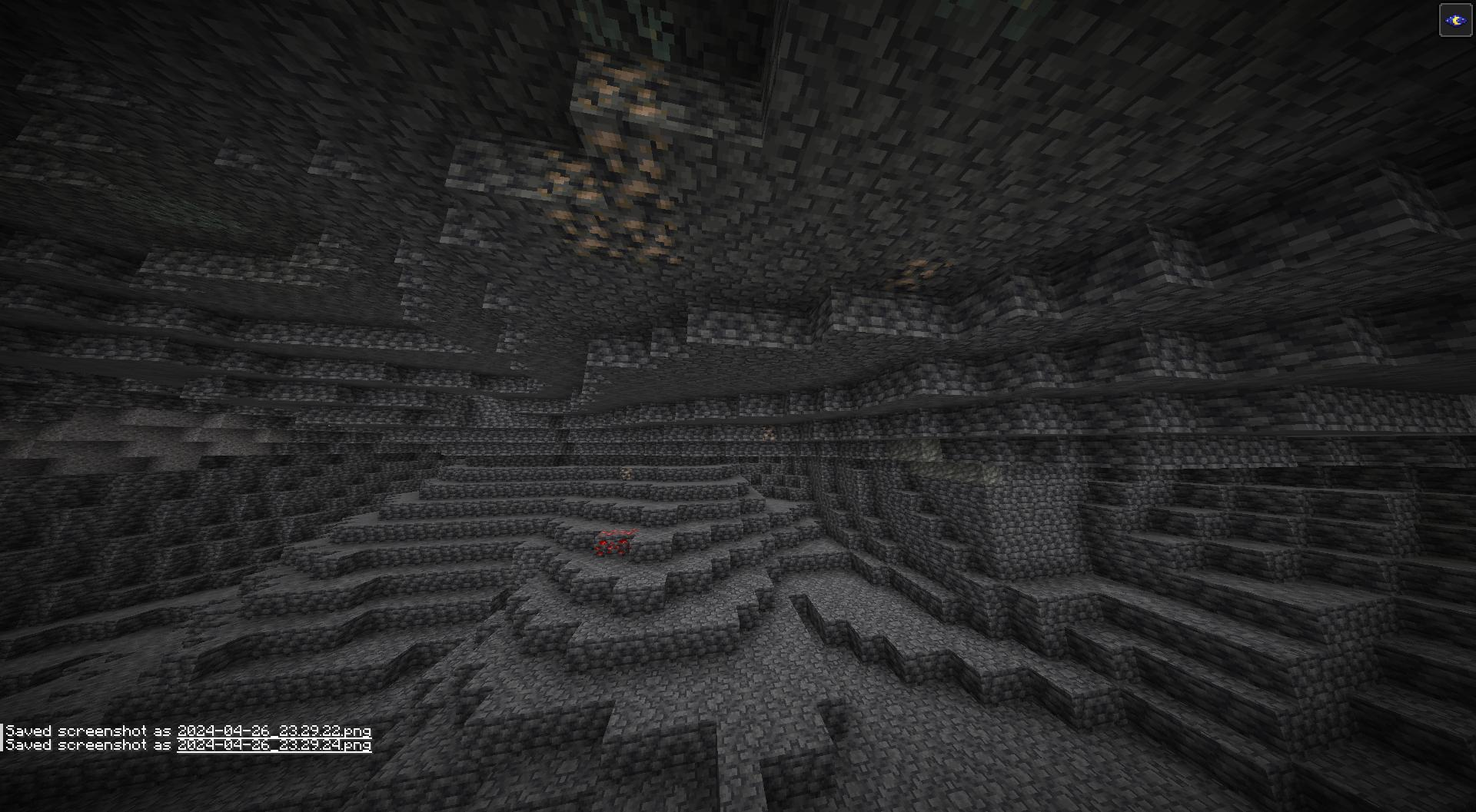iron ore: (572, 52, 674, 194), (552, 210, 680, 266), (536, 148, 597, 204), (879, 259, 943, 296), (759, 423, 783, 444), (616, 465, 636, 484)
redstone ore: (592, 528, 636, 555)
